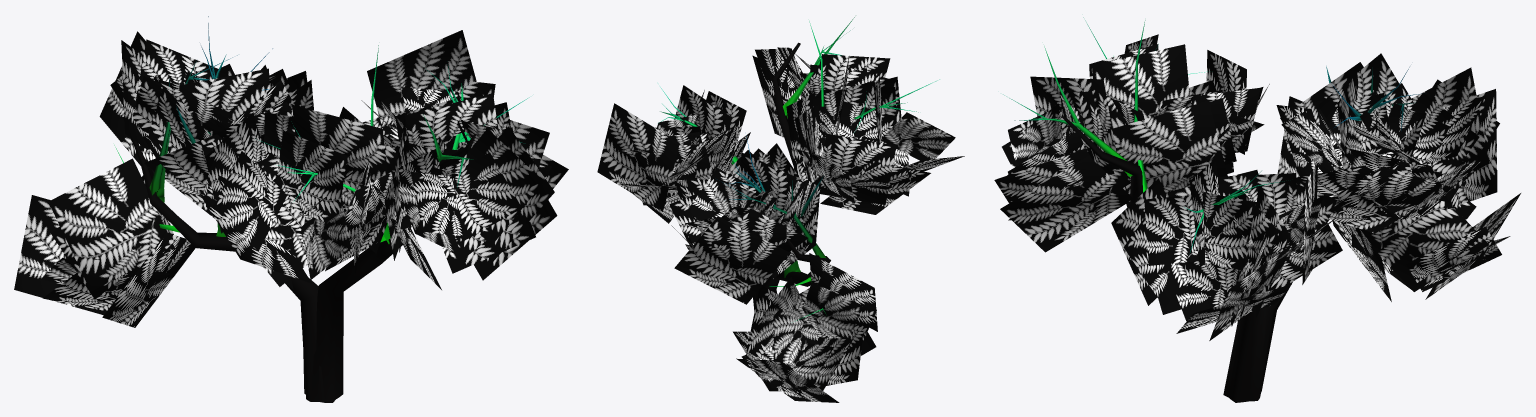
File: SM_Mesquite01.fbx
3 renders of one model, left to right at view 1: azimuth 30°, elevation 25°; view 2: azimuth 150°, elevation 25°; view 3: azimuth 270°, elevation 25°, orthographic. The views are drawn at different scales.
Parts seen in each view (by area): view 1: t_leaf_1, SM_Mesquite01; view 2: t_leaf_1, SM_Mesquite01; view 3: t_leaf_1, SM_Mesquite01.
Boxes of the visible parts, box(x1,y1,x2,y2) form: t_leaf_1: box(14, 30, 568, 327); SM_Mesquite01: box(114, 16, 529, 402); t_leaf_1: box(597, 47, 964, 402); SM_Mesquite01: box(659, 17, 939, 321); t_leaf_1: box(994, 34, 1520, 340); SM_Mesquite01: box(1003, 17, 1423, 402).
Size of the model in its own units: 1052 by 926 by 1160.
